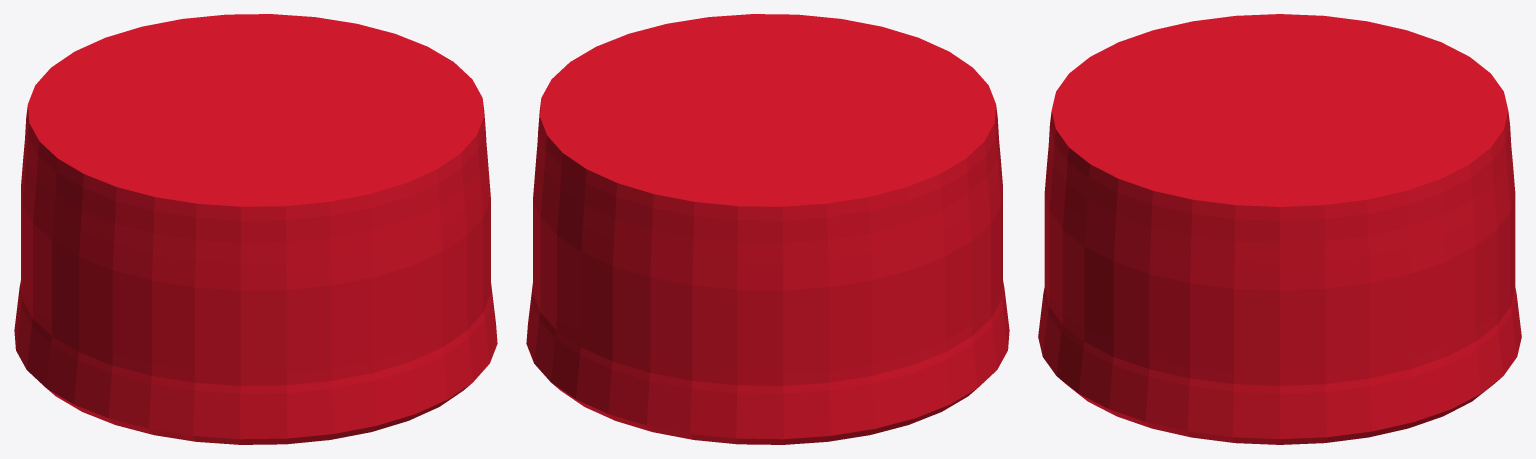
Rendered from Tampinha.fbx.
3 views of the same model, side by side, from view 1: azimuth 30°, elevation 25°; view 2: azimuth 150°, elevation 25°; view 3: azimuth 270°, elevation 25° (orthographic).
Parts seen in each view (by area): view 1: Tampinha; view 2: Tampinha; view 3: Tampinha.
Part boxes in pixels (<box>): Tampinha: <box>14,14,497,444</box>; Tampinha: <box>526,14,1009,444</box>; Tampinha: <box>1038,14,1521,444</box>.
Bounding box in the file's own units: 274 × 153 × 274.
